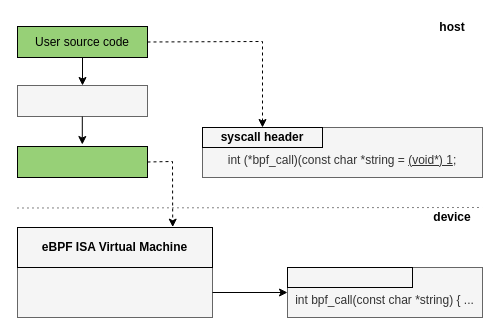
This 501x335 diagram has some shape labels left out. The shapes that lost their labels are listed below. From the top down, each one's centre as x and y in pixels, then its label:
the point at 82,100: compiler
the point at 82,162: User eBPF bytecode
the point at 349,277: vendor code
